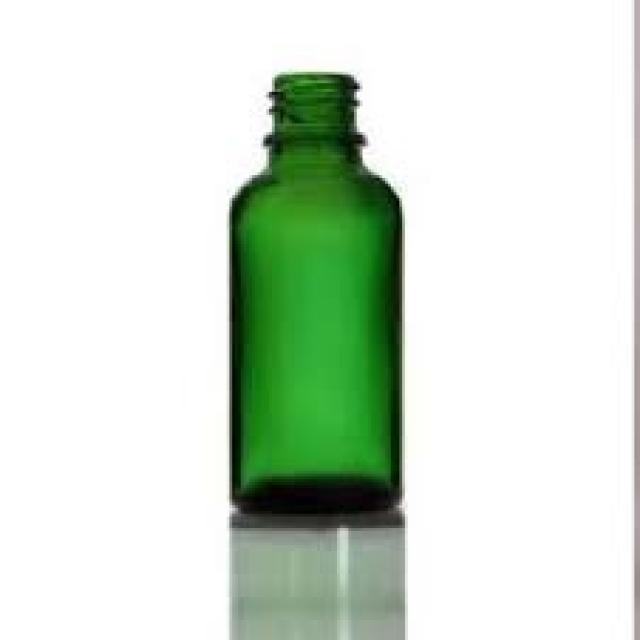glass: (230, 72, 400, 511)
